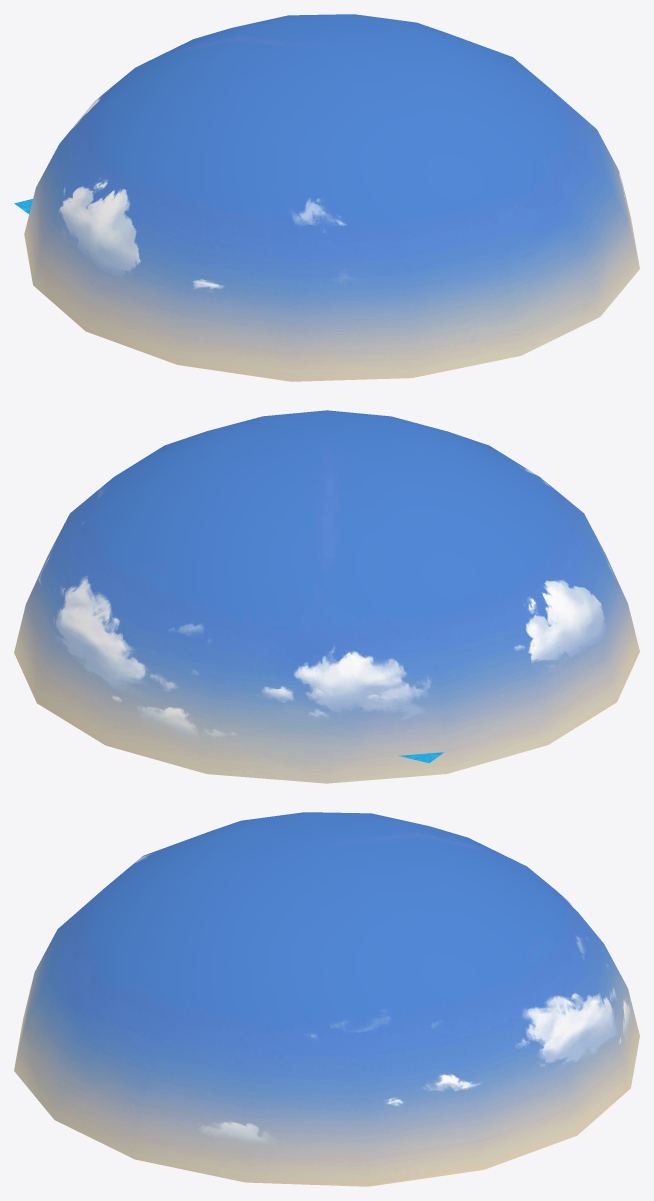
The model's file is map_qms.glb.
3 renders of one model, top to bottom at view 1: azimuth 30°, elevation 25°; view 2: azimuth 150°, elevation 25°; view 3: azimuth 270°, elevation 25°, orthographic.
Visible parts, largest first — view 1: qms_Sky; view 2: qms_Sky; view 3: qms_Sky.
Boxes of the visible parts, x1,y1,x2,y2 form: qms_Sky: [24, 14, 639, 381]; qms_Sky: [14, 410, 639, 783]; qms_Sky: [14, 812, 639, 1186].
Size of what is drawn, in the model's own units: 35.26 by 13.06 by 35.27.
Materials: 25 (25 with a texture image).
